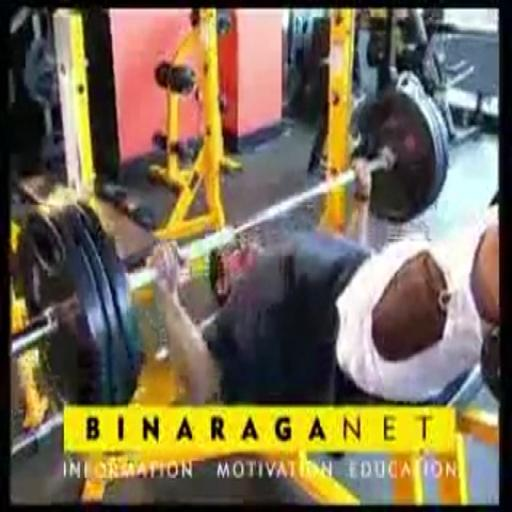exercise: (146, 208, 501, 408)
